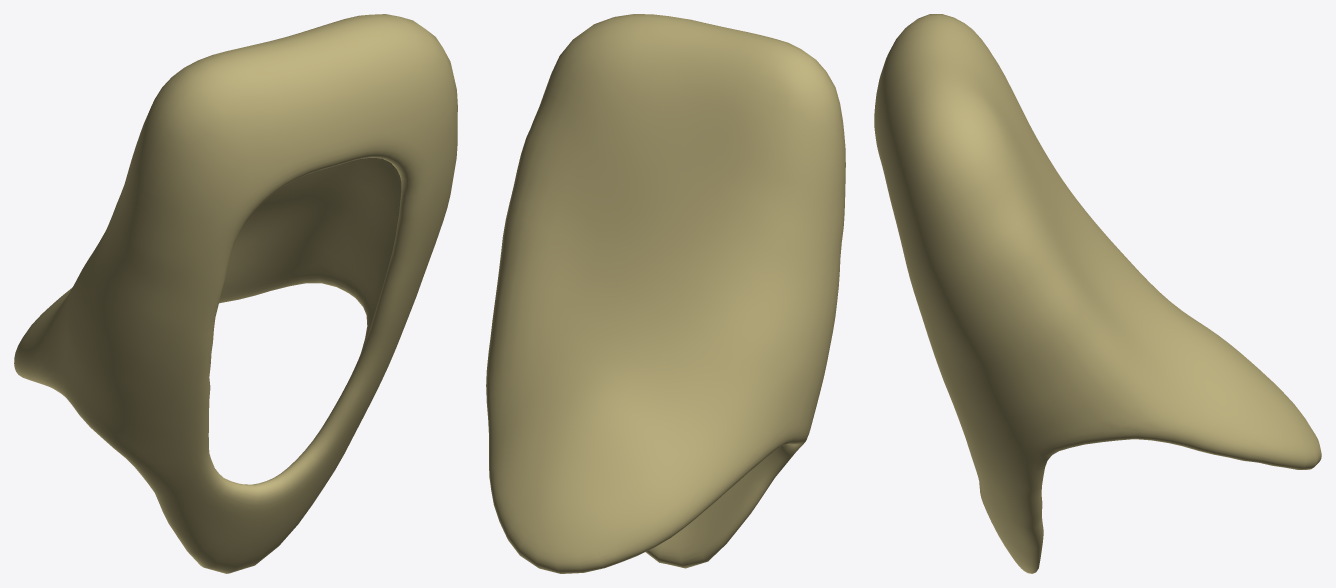
The model's file is BR1_Frame_Classic.001.glb.
3 renders of one model, left to right at view 1: azimuth 30°, elevation 25°; view 2: azimuth 150°, elevation 25°; view 3: azimuth 270°, elevation 25°, orthographic. The views are drawn at different scales.
Visible parts, largest first — view 1: BR1_Frame_Classic.001; view 2: BR1_Frame_Classic.001; view 3: BR1_Frame_Classic.001.
Part boxes in pixels (x1,y1,x2,y2): BR1_Frame_Classic.001: (14,14,457,573); BR1_Frame_Classic.001: (486,14,845,573); BR1_Frame_Classic.001: (874,14,1321,573).
Size of the model in its own units: 0.6468 by 1.02 by 0.801.
